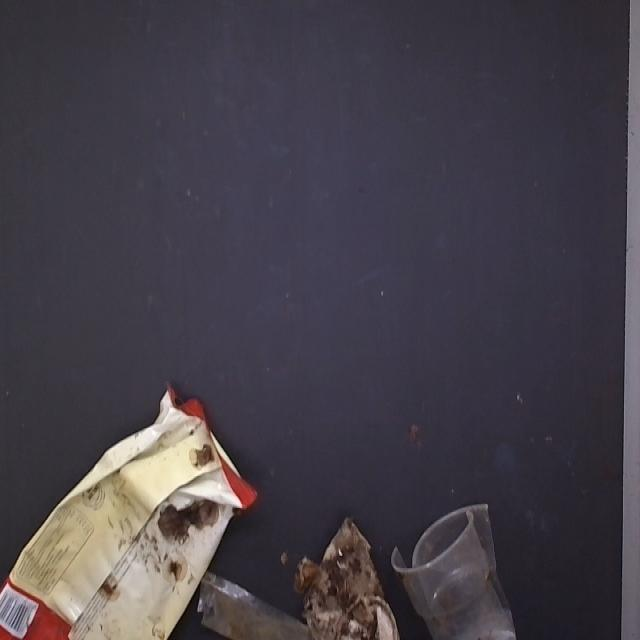drinking_cans: (297, 520, 395, 640)
food_wrapping: (0, 380, 256, 640)
plastic_cups: (390, 500, 546, 640)
plastic_films: (203, 563, 308, 640)
